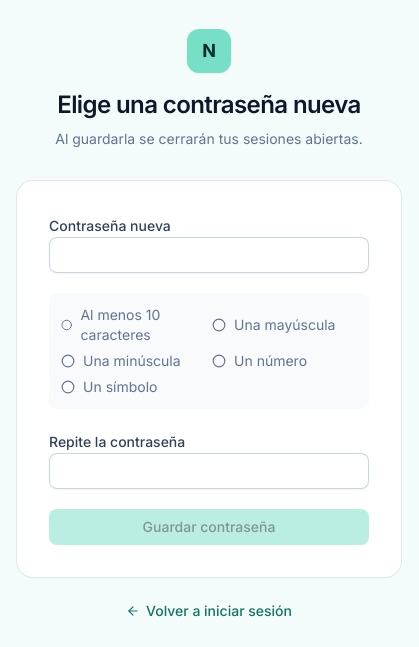
Test case: ResetPasswordPage › no deja guardar si las contraseñas no coinciden
Type "Segura-2026x" into the password field labelled "Contraseña nueva" at (209, 255), box [49, 237, 369, 273]
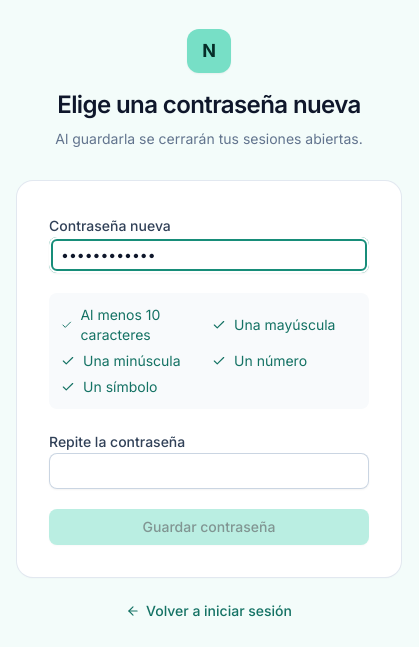
Type "Otra-2026x" into the password field labelled "Repite la contraseña" at (209, 471), box [49, 453, 369, 489]
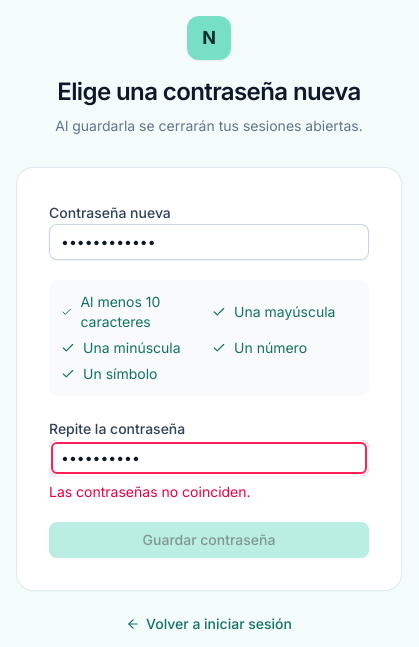
Expected: the button "Guardar contraseña" is disabled, [49, 522, 369, 558]
Now the message reads "Las contraseñas no coinciden.", box [49, 483, 251, 500]
